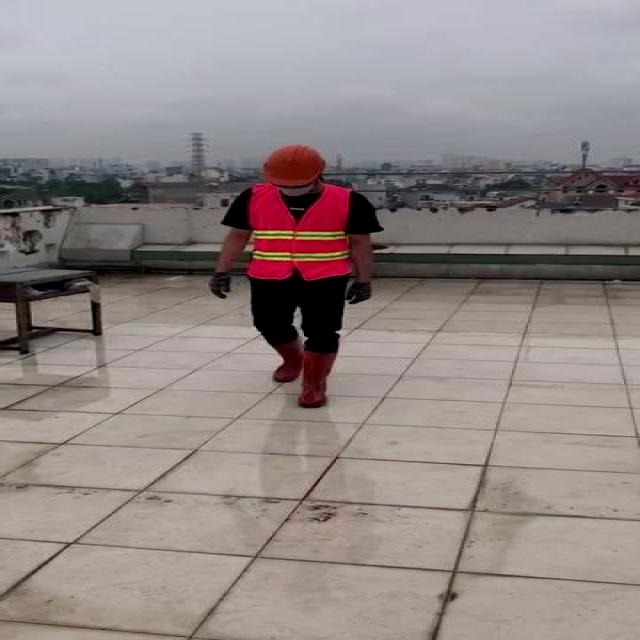boots: (295, 351, 338, 409), (267, 336, 302, 382)
hand_glove: (206, 271, 233, 299), (345, 279, 373, 303)
head_helmet: (260, 144, 330, 188)
person: (201, 144, 393, 413)
vest: (244, 185, 352, 280)
